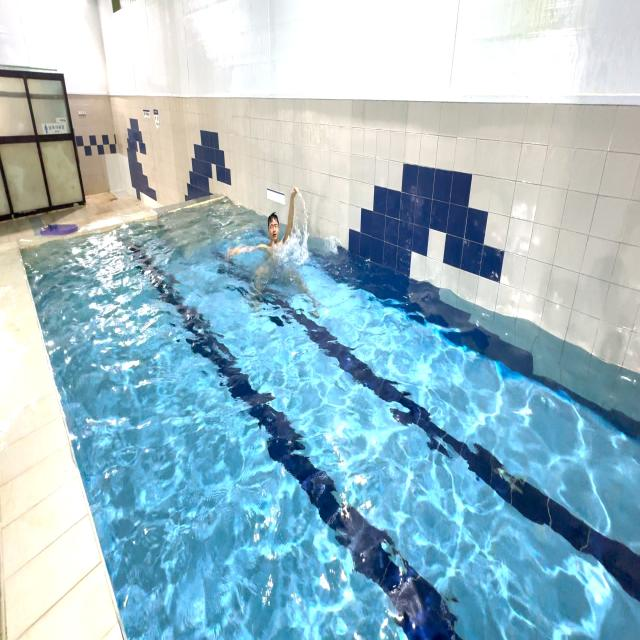Drowning: (221, 184, 327, 318)
